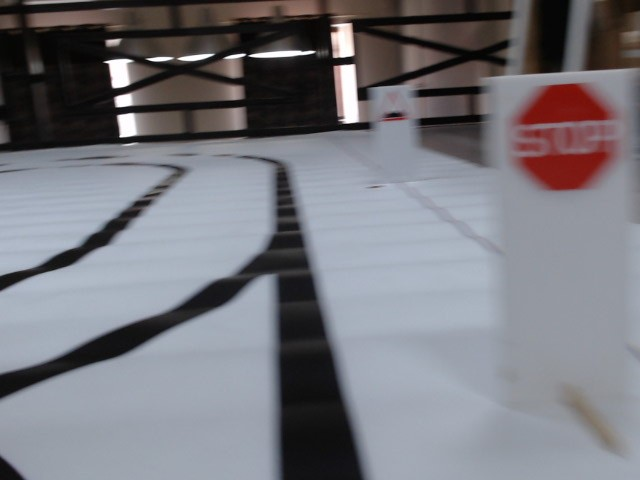Stop: (511, 86, 622, 189)
